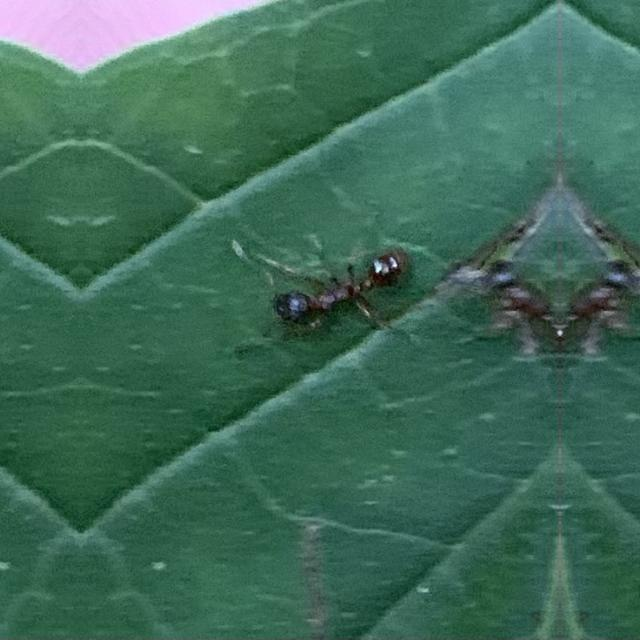Myrmica: (252, 229, 418, 351), (470, 252, 560, 348), (558, 252, 640, 346)
